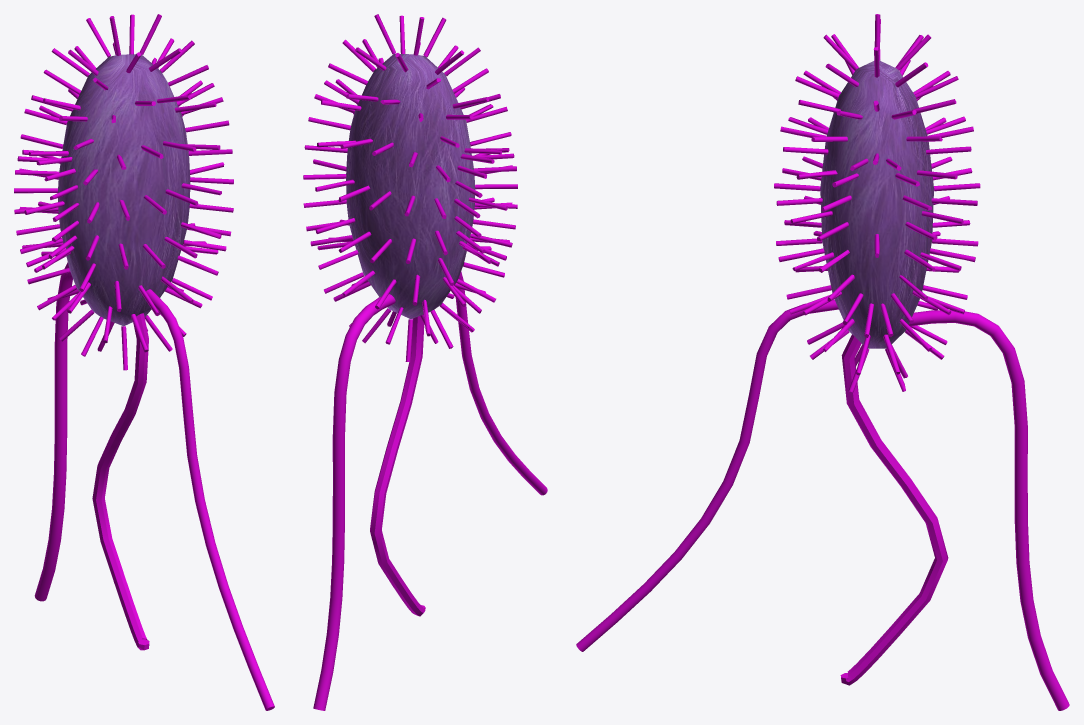
File: salmonela.fbx
3 views of the same model, side by side, from view 1: azimuth 30°, elevation 25°; view 2: azimuth 150°, elevation 25°; view 3: azimuth 270°, elevation 25° (orthographic). The views are drawn at different scales.
Parts seen in each view (by area): view 1: Sphere001, Line029, Line033, Line034, Line032; view 2: Sphere001, Line029, Line032, Line034, Line033; view 3: Sphere001, Line029, Line032, Line034, Line033.
Boxes of the visible parts, x1,y1,x2,y2 form: Sphere001: [58, 54, 190, 326]; Line029: [14, 14, 233, 370]; Line033: [146, 289, 274, 710]; Line034: [92, 313, 149, 650]; Line032: [34, 262, 72, 601]; Sphere001: [346, 53, 475, 318]; Line029: [303, 14, 517, 362]; Line032: [313, 294, 395, 710]; Line034: [370, 316, 425, 616]; Line033: [455, 271, 547, 495]; Sphere001: [820, 60, 933, 348]; Line029: [774, 14, 980, 392]; Line032: [908, 310, 1069, 710]; Line034: [840, 334, 948, 685]; Line033: [576, 299, 838, 651].
Size of the model in its own units: 90.94 by 187 by 286.
2 materials, 1 textured.
